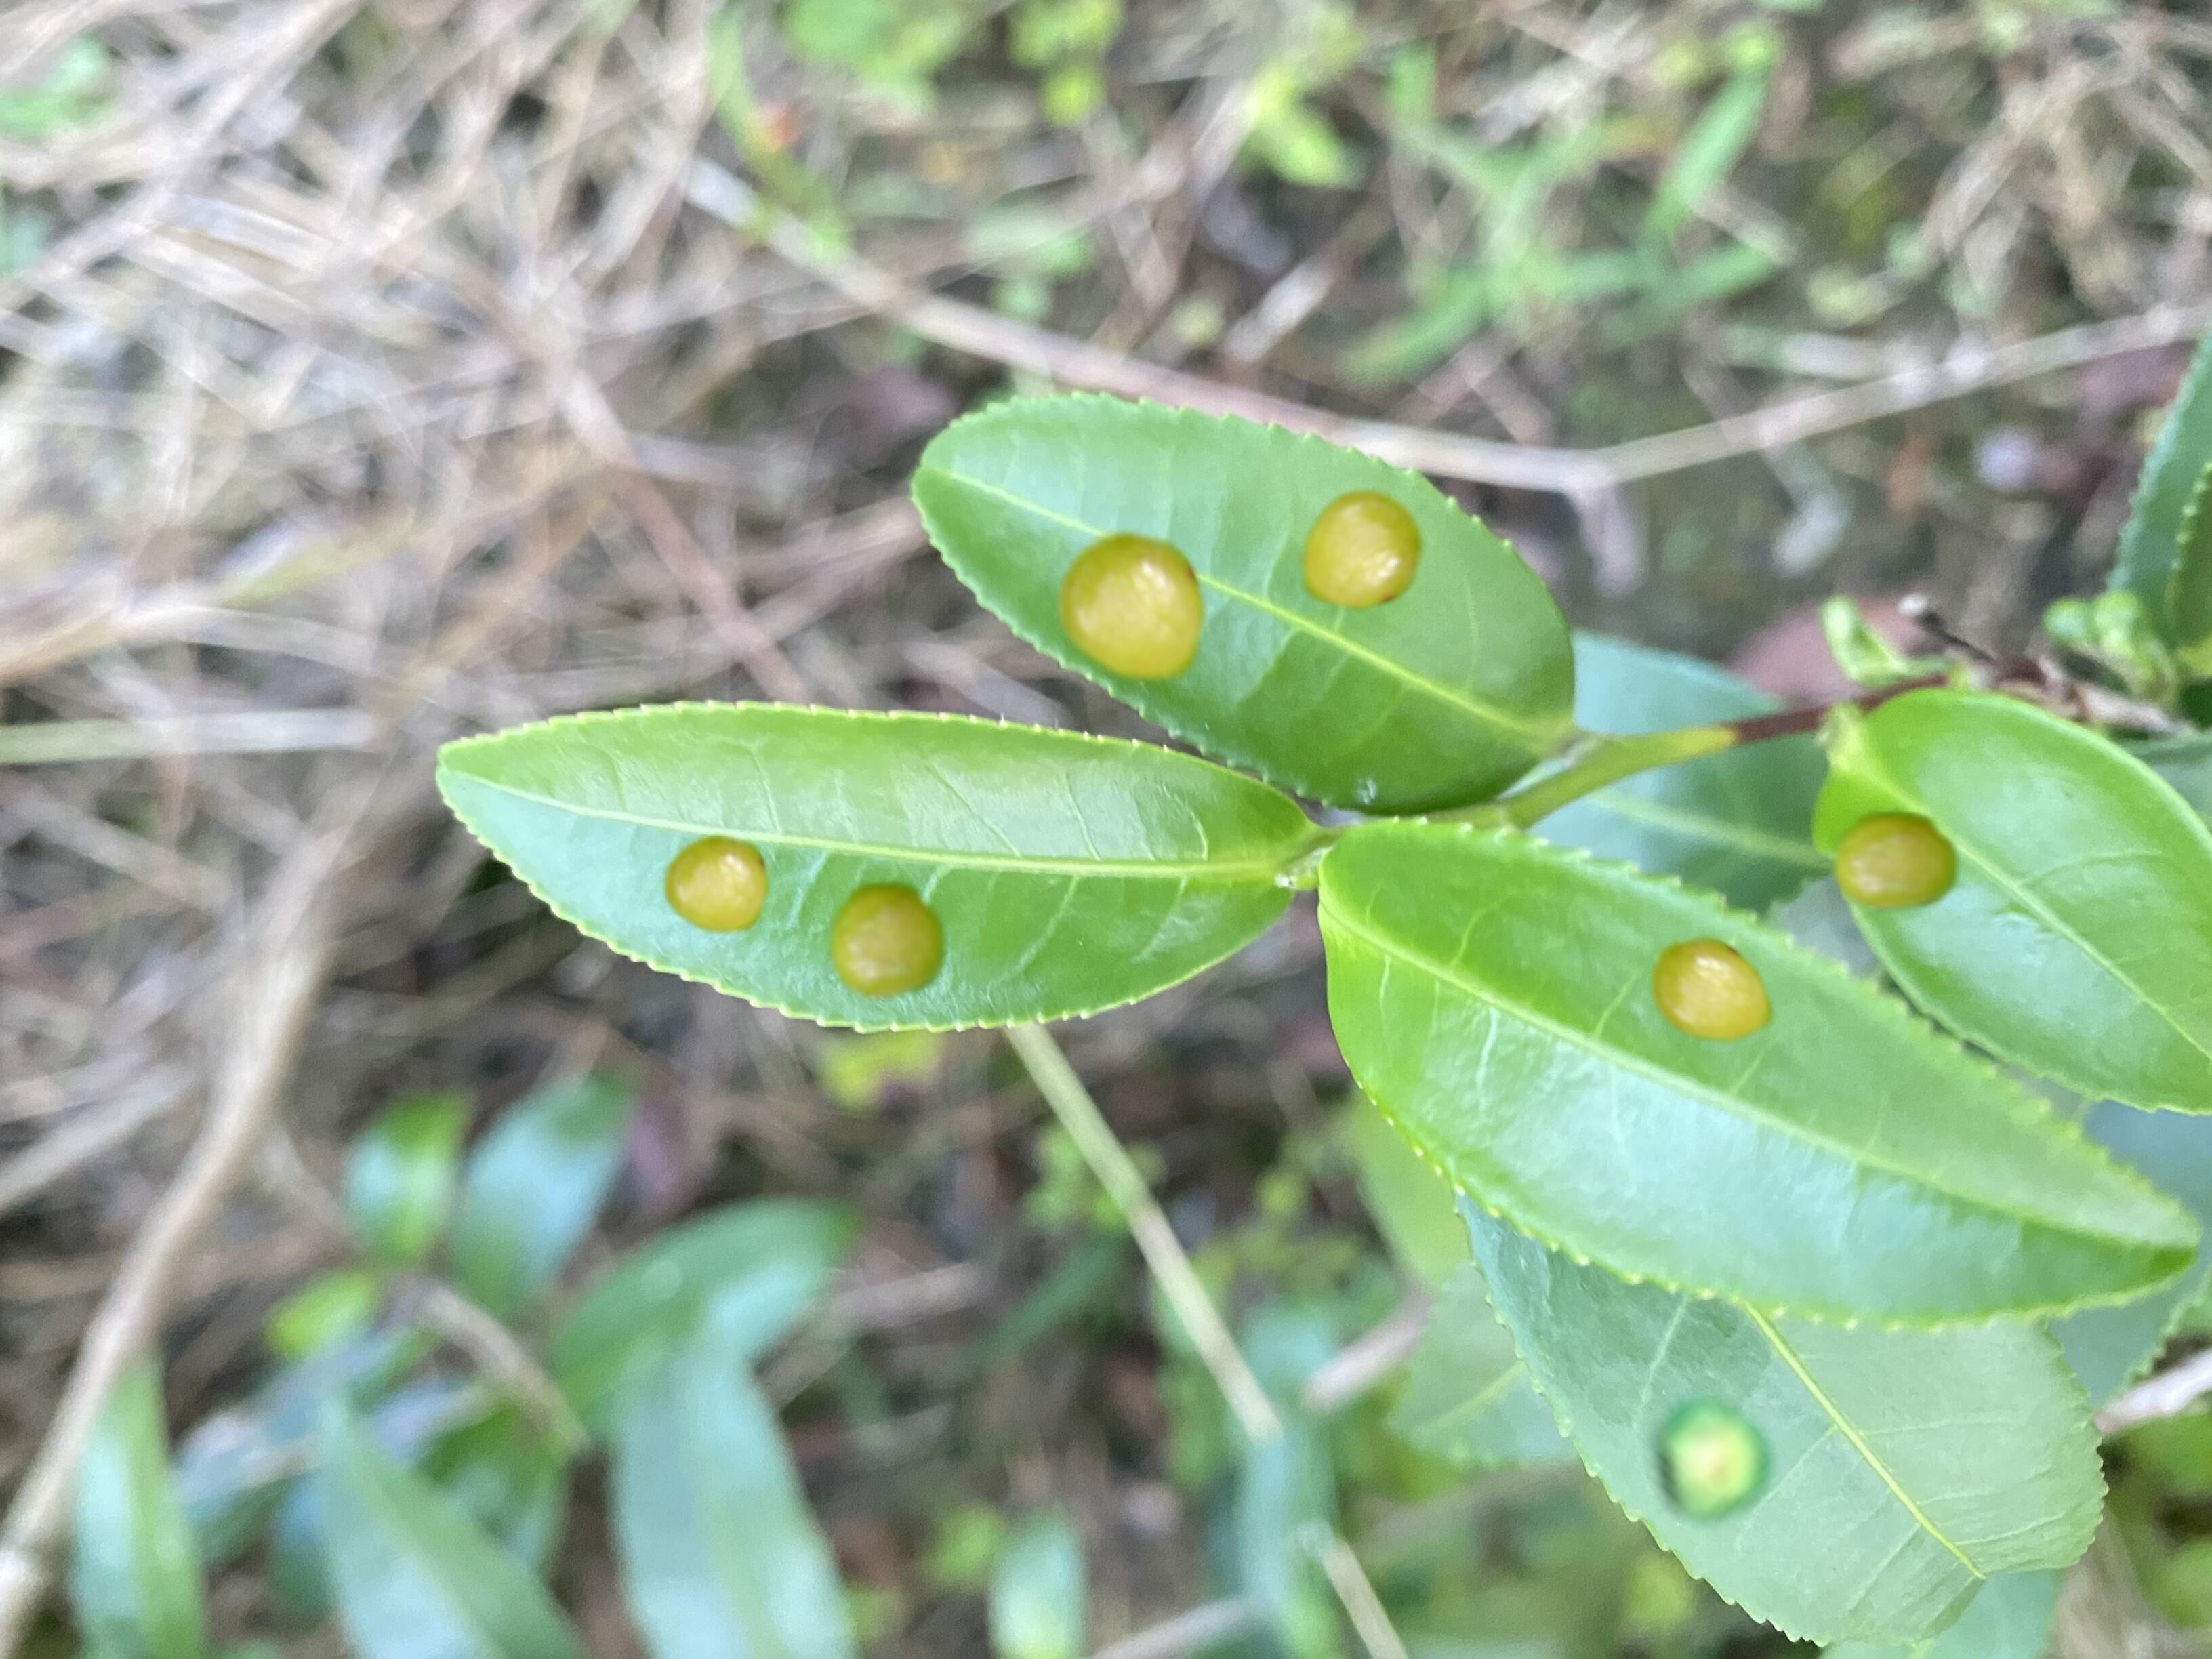chabing_high: (434, 699, 1305, 1033), (909, 396, 1576, 817)
chabing_low: (1308, 821, 2200, 1328), (1460, 1208, 2107, 1650), (1810, 692, 2212, 1114)
